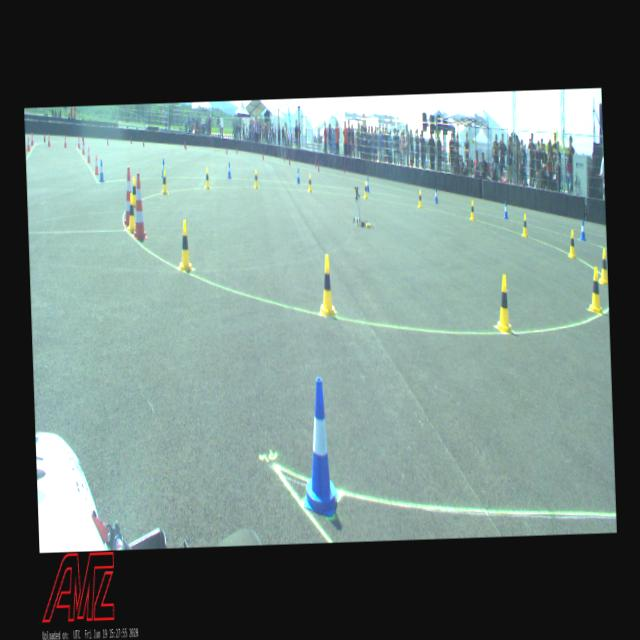blue_cone: (300, 376, 338, 516), (579, 220, 586, 241), (98, 159, 104, 181), (160, 158, 166, 178), (502, 200, 508, 218), (226, 162, 231, 178), (433, 186, 438, 202), (296, 167, 300, 183), (366, 176, 370, 192)
large_orange_cone: (130, 173, 147, 239), (122, 167, 132, 226)
orange_cone: (94, 154, 98, 174), (86, 146, 91, 162), (81, 140, 85, 154), (26, 136, 29, 150), (47, 133, 50, 146), (31, 132, 34, 145), (77, 136, 80, 148), (64, 136, 66, 148)
yellow_cone: (318, 254, 336, 316), (494, 274, 511, 332), (176, 220, 192, 271), (588, 266, 602, 314), (126, 192, 135, 232), (598, 248, 608, 284), (568, 228, 576, 258), (161, 170, 167, 194), (521, 214, 527, 236), (204, 168, 210, 188), (132, 176, 136, 204), (362, 180, 368, 198), (253, 169, 258, 188), (417, 189, 422, 208), (307, 174, 312, 192), (470, 200, 474, 220)
